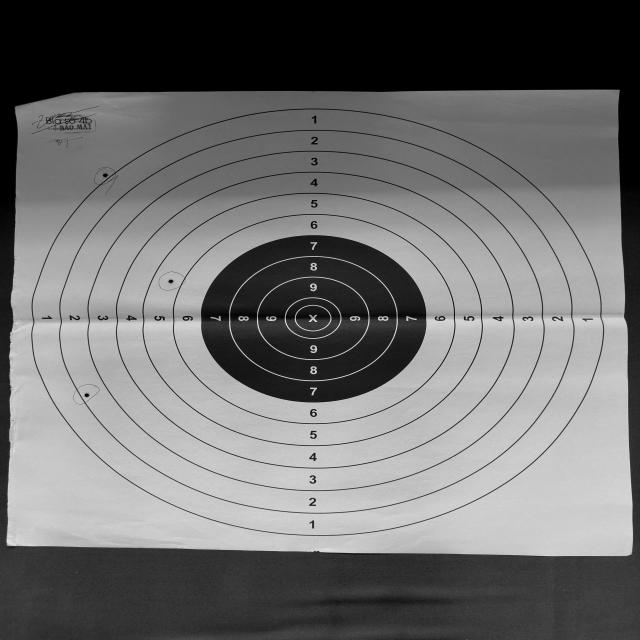bullet: (102, 173, 109, 178), (83, 393, 90, 398), (167, 279, 174, 283)
target: (8, 90, 632, 556)
